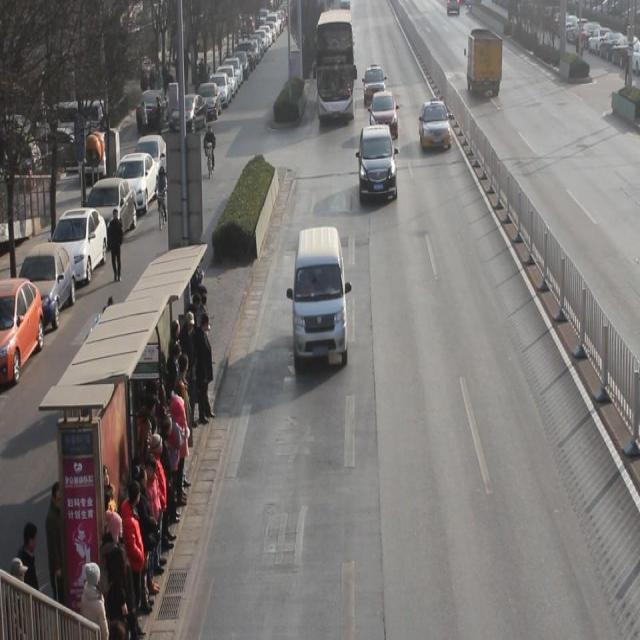bus: (467, 30, 502, 100)
car: (359, 125, 397, 204), (419, 101, 452, 154), (369, 90, 399, 140), (363, 66, 387, 106)
truck: (292, 228, 348, 372)
van: (315, 11, 354, 126)
